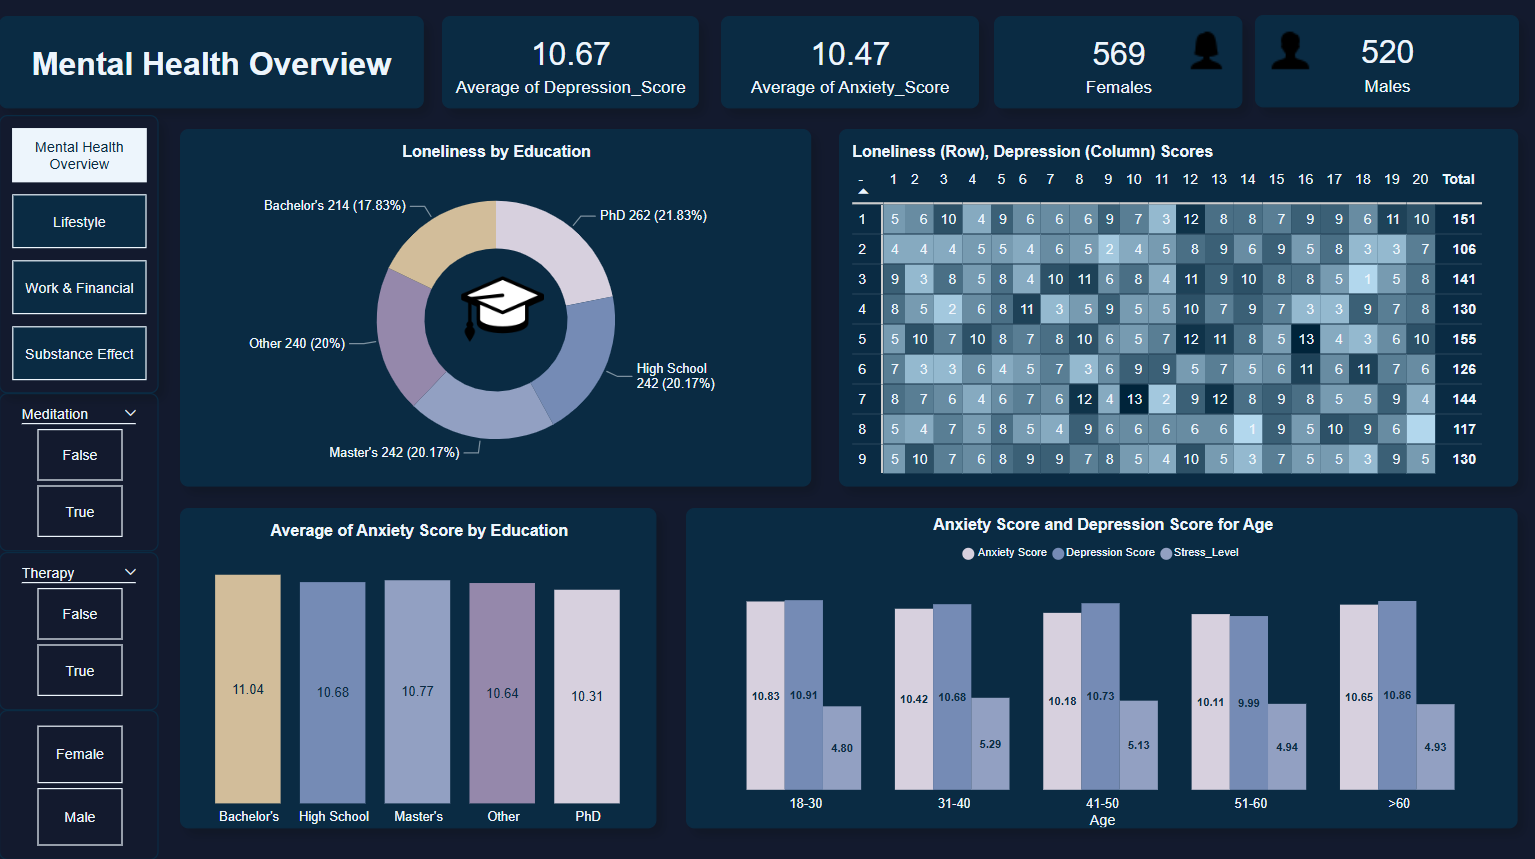

What the dashboard file says about the page in this screenshot:
{"tool":"powerbi","page":{"name":"Mental Health Overview","canvas":[1280,720],"ordinal":0},"visuals":[{"type":"columnChart","title":"Average of Anxiety Score by Education","fields":{"Category":["anxiety_depression_data.Education_Level"],"Series":["anxiety_depression_data.Education_Level"],"Y":["Avg(anxiety_depression_data.Depression_Score)"]},"box":[151.1,426.7,396.7,266.7],"z":0},{"type":"card","fields":{"Values":["Avg(anxiety_depression_data.Anxiety_Score)"]},"box":[601.8,16.4,214.5,77.3],"z":1000},{"type":"card","fields":{"Values":["CountNonNull(anxiety_depression_data.Gender)"]},"box":[1047,16,220,77],"z":2000},{"type":"card","fields":{"Values":["CountNonNull(anxiety_depression_data.Gender)"]},"box":[829.1,16.4,207.3,77.3],"z":3000},{"type":"slicer","fields":{"Values":["anxiety_depression_data.Gender"]},"box":[0,595,133,125],"z":4000},{"type":"clusteredColumnChart","title":"Anxiety Score and Depression Score for Age","fields":{"Category":["anxiety_depression_data (3).Age_groups"],"Y":["Avg(anxiety_depression_data.Anxiety_Score)","Avg(anxiety_depression_data.Depression_Score)","Avg(anxiety_depression_data.Stress_Level)"]},"box":[572.2,426.7,693.3,266.7],"z":5000},{"type":"pivotTable","title":"Loneliness (Row), Depression (Column) Scores","fields":{"Values":["CountNonNull(anxiety_depression_data.Index)"],"Columns":["anxiety_depression_data.Depression_Score"],"Rows":["anxiety_depression_data.Loneliness_Score"]},"box":[700,110.9,565.6,297.8],"z":6000},{"type":"card","fields":{"Values":["Avg(anxiety_depression_data.Depression_Score)"]},"box":[369.1,16.4,213.6,77.3],"z":7000},{"type":"shape","box":[0,16.4,353.6,77.3],"z":8000},{"type":"textbox","box":[0,35,354,38],"z":9000},{"type":"pageNavigator","box":[0,99,133,232],"z":10000},{"type":"donutChart","title":"Loneliness by Education","fields":{"Category":["anxiety_depression_data.Education_Level"],"Y":["CountNonNull(anxiety_depression_data.Loneliness_Score)"]},"box":[151.1,111.1,525.6,297.8],"z":11000},{"type":"image","box":[374,215,91,89],"z":12000},{"type":"image","box":[1047,16,59,59],"z":14000},{"type":"image","box":[977,16,59,59],"z":15000},{"type":"slicer","fields":{"Values":["anxiety_depression_data.Therapy"]},"box":[0,463,133,132],"z":16000},{"type":"slicer","fields":{"Values":["anxiety_depression_data.Meditation"]},"box":[0,331,133,132],"z":17001}]}

Visuals, with their boxes in screenshot pixels (x1, y1, x2, y2), scaled from the page's 1280x720 canvas onto the 1535x859 screenshot:
"Average of Anxiety Score by Education" columnChart: (left=181, top=509, right=657, bottom=827)
card - Avg(anxiety_depression_data.Anxiety_Score): (left=722, top=20, right=979, bottom=112)
card - CountNonNull(anxiety_depression_data.Gender): (left=1256, top=19, right=1519, bottom=111)
card - CountNonNull(anxiety_depression_data.Gender): (left=994, top=20, right=1243, bottom=112)
slicer - anxiety_depression_data.Gender: (left=0, top=710, right=159, bottom=858)
"Anxiety Score and Depression Score for Age" clusteredColumnChart: (left=686, top=509, right=1518, bottom=827)
"Loneliness (Row), Depression (Column) Scores" pivotTable: (left=839, top=132, right=1518, bottom=488)
card - Avg(anxiety_depression_data.Depression_Score): (left=443, top=20, right=699, bottom=112)
shape: (left=0, top=20, right=424, bottom=112)
textbox: (left=0, top=42, right=425, bottom=87)
pageNavigator: (left=0, top=118, right=159, bottom=395)
"Loneliness by Education" donutChart: (left=181, top=133, right=812, bottom=488)
image: (left=449, top=257, right=558, bottom=363)
image: (left=1256, top=19, right=1326, bottom=89)
image: (left=1172, top=19, right=1242, bottom=89)
slicer - anxiety_depression_data.Therapy: (left=0, top=552, right=159, bottom=710)
slicer - anxiety_depression_data.Meditation: (left=0, top=395, right=159, bottom=552)
